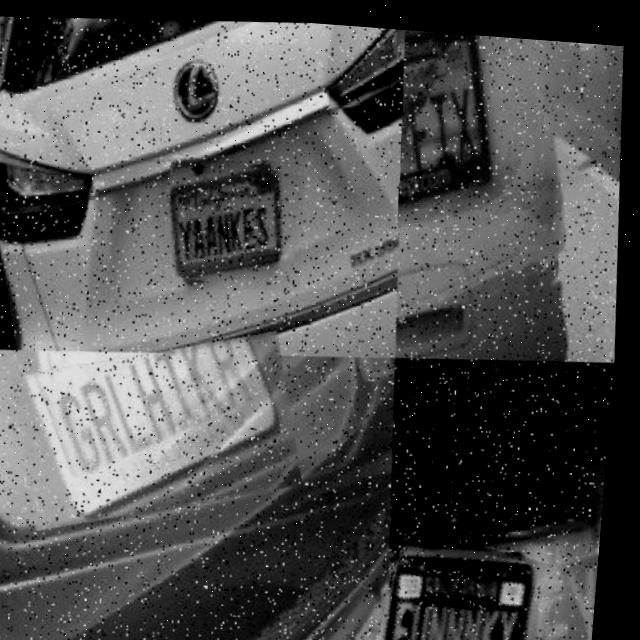LicensePlate: (13, 323, 315, 534), (392, 24, 523, 224), (153, 148, 313, 293), (385, 519, 572, 640)
